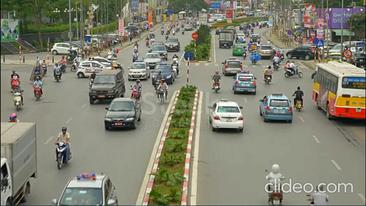bus: (310, 55, 366, 129)
car: (48, 169, 118, 206), (86, 67, 130, 108), (101, 93, 143, 133), (206, 98, 247, 136), (255, 91, 297, 128), (228, 69, 259, 99), (149, 61, 178, 87), (128, 54, 150, 87), (75, 58, 110, 78), (219, 54, 245, 79), (142, 51, 163, 69)
motorcycle: (260, 168, 289, 206), (52, 136, 73, 169), (152, 82, 170, 108), (281, 64, 306, 80), (28, 81, 46, 102), (11, 87, 26, 111), (210, 71, 224, 96), (262, 69, 275, 87), (53, 65, 63, 83)
